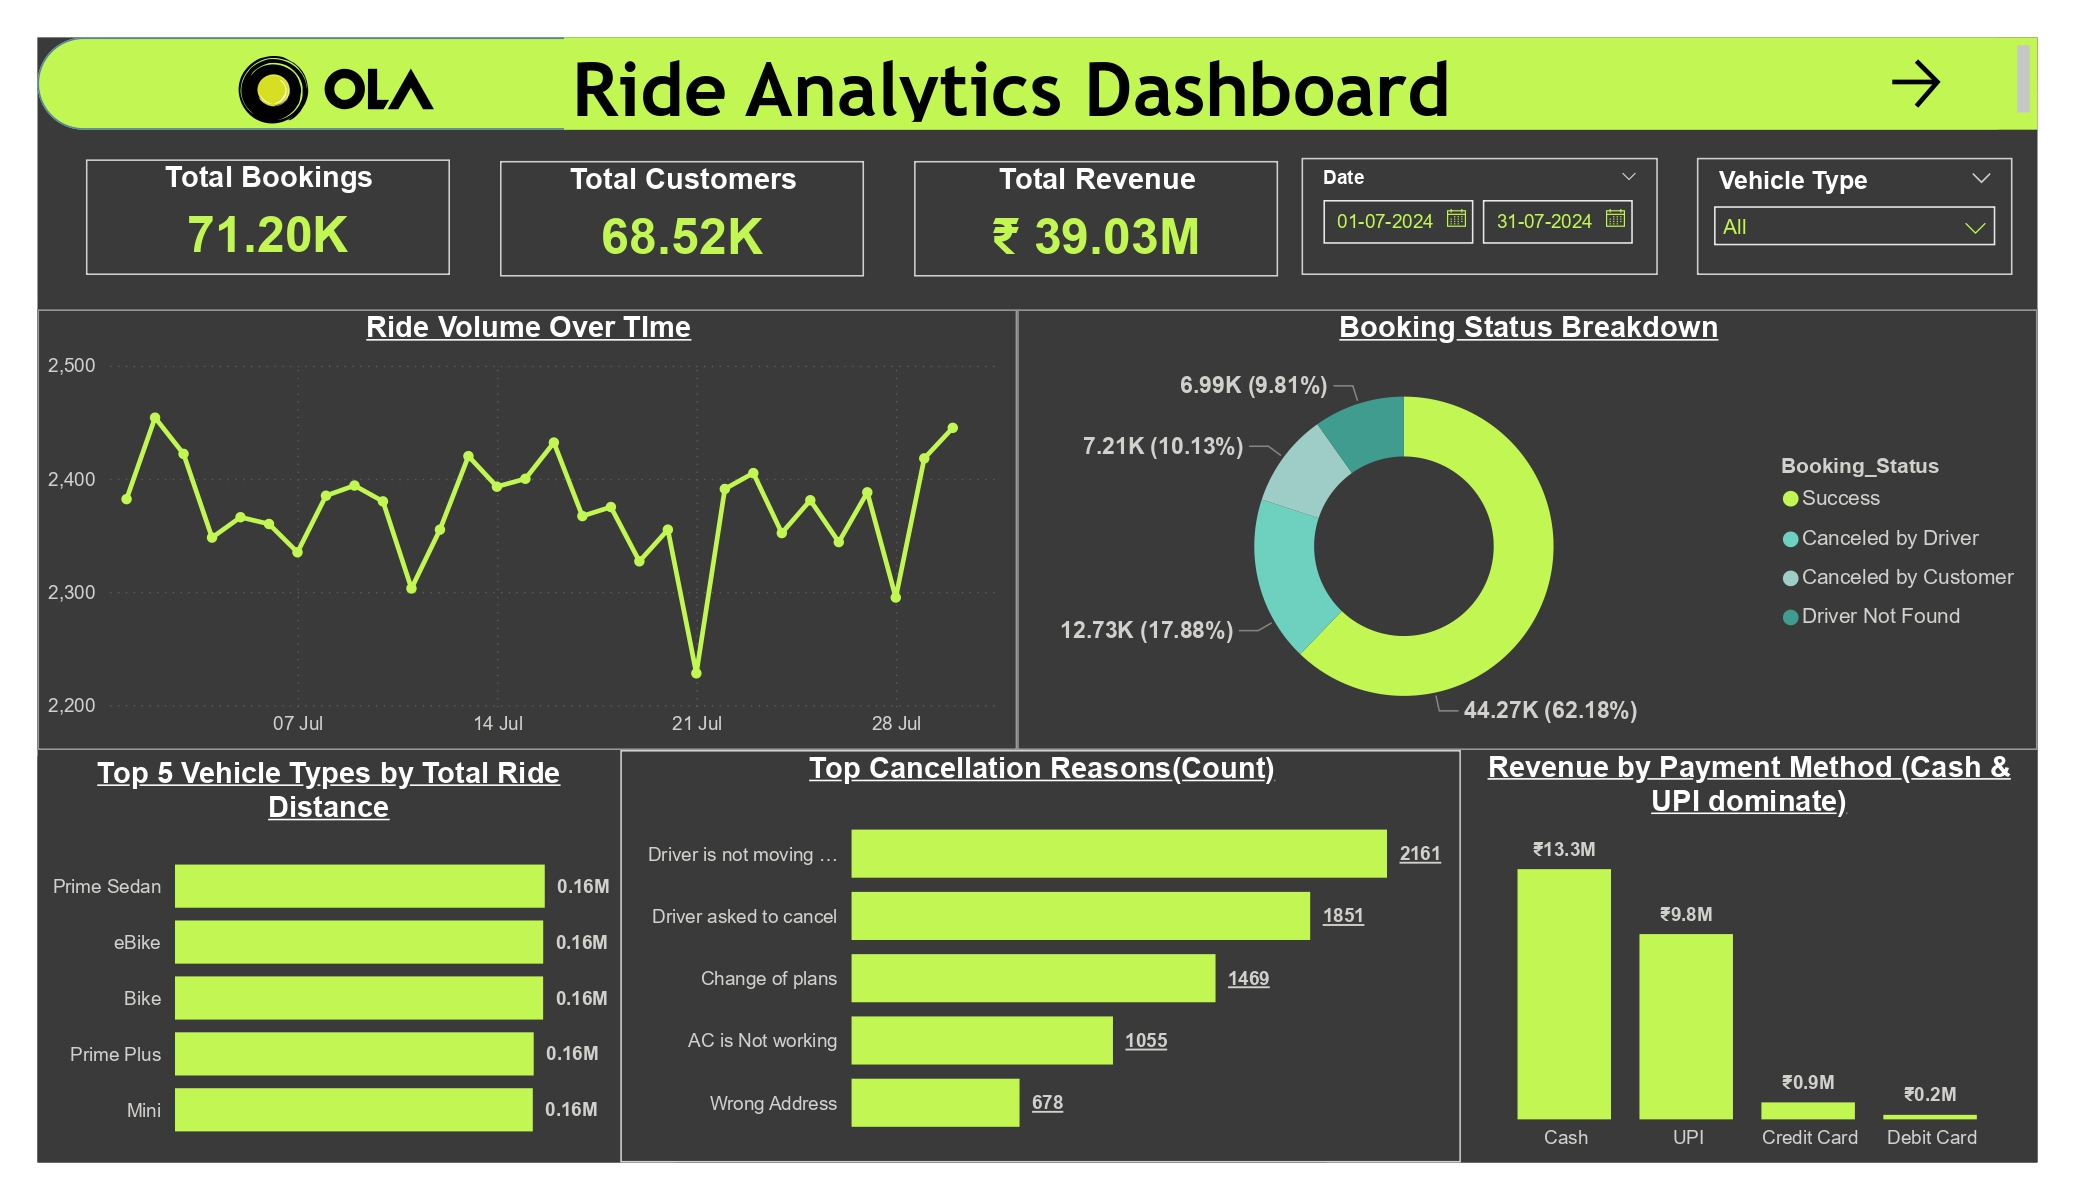

The page's visual inventory and layout, read from the dashboard file:
{"tool":"powerbi","page":{"name":"Operational Analysis","canvas":[1280,720],"ordinal":0},"visuals":[{"type":"shape","box":[0,0,1280.3,59.2],"z":0},{"type":"image","box":[98.3,0,180.4,59.2],"z":1000},{"type":"lineChart","title":"Ride Volume Over TIme","fields":{"Y":["CountNonNull(Bookings.Booking_ID)"],"Category":["Bookings.Date.Variation.Date Hierarchy.Year","Bookings.Date.Variation.Date Hierarchy.Month","Bookings.Date.Variation.Date Hierarchy.Day"]},"box":[0,173.7,627.3,282.7],"z":2000},{"type":"donutChart","title":"Booking Status Breakdown","fields":{"Category":["Bookings.Booking_Status"],"Y":["CountNonNull(Bookings.Booking_Status)"]},"box":[627.3,173.7,652.9,282.7],"z":3000},{"type":"barChart","title":"Top 5 Vehicle Types by Total Ride Distance","fields":{"Category":["Bookings.Vehicle_Type"],"Y":["Sum(Bookings.Ride_Distance)"]},"box":[0,460.4,372.9,259.8],"z":4000},{"type":"textbox","box":[409,460,416,260],"z":6000},{"type":"textbox","box":[336.6,0,943.7,59.2],"z":7000},{"type":"clusteredBarChart","title":" Top Cancellation Reasons(Count)","fields":{"Category":["Bookings.Canceled_Rides_by_Customer","Bookings.Canceled_Rides_by_Driver"],"Y":["CountNonNull(Bookings.Canceled_Rides_by_Customer)"]},"box":[372.9,456.4,538.5,263.9],"z":8000},{"type":"clusteredColumnChart","title":"Revenue by Payment Method (Cash & UPI dominate)","fields":{"Category":["Bookings.Payment_Method"],"Y":["Sum(Bookings.Booking_Value)"]},"box":[911.4,456.4,368.9,263.9],"z":9000},{"type":"card","title":"Total Bookings","fields":{"Values":["CountNonNull(Bookings.Booking_ID)"]},"box":[31,78.1,232.9,74],"z":10000},{"type":"card","title":"Total Customers","fields":{"Values":["Count(Bookings.Customer_ID)"]},"box":[296.2,79.4,232.9,74],"z":11000},{"type":"card","title":"Total Revenue","fields":{"Values":["Sum(Bookings.Booking_Value)"]},"box":[561.4,79.4,232.9,74],"z":12000},{"type":"actionButton","box":[1180.7,9.4,99.6,40.4],"z":13000},{"type":"slicer","fields":{"Values":["Bookings.Vehicle_Type"]},"box":[1062.2,76.7,201.9,75.4],"z":14000},{"type":"slicer","fields":{"Values":["Bookings.Date"]},"box":[809.1,76.7,227.5,75.4],"z":15000}]}

Visuals, with their boxes on the page's 1280x720 design canvas (x1, y1, x2, y2). These are canvas units, not pixel positions in the 2075x1200 screenshot, which may show the page scaled, cropped or inside an application window:
shape: [x1=0, y1=0, x2=1280, y2=59]
image: [x1=98, y1=0, x2=279, y2=59]
"Ride Volume Over TIme" lineChart: [x1=0, y1=174, x2=627, y2=456]
"Booking Status Breakdown" donutChart: [x1=627, y1=174, x2=1280, y2=456]
"Top 5 Vehicle Types by Total Ride Distance" barChart: [x1=0, y1=460, x2=373, y2=720]
textbox: [x1=409, y1=460, x2=825, y2=720]
textbox: [x1=337, y1=0, x2=1280, y2=59]
" Top Cancellation Reasons(Count)" clusteredBarChart: [x1=373, y1=456, x2=911, y2=720]
"Revenue by Payment Method (Cash & UPI dominate)" clusteredColumnChart: [x1=911, y1=456, x2=1280, y2=720]
"Total Bookings" card: [x1=31, y1=78, x2=264, y2=152]
"Total Customers" card: [x1=296, y1=79, x2=529, y2=153]
"Total Revenue" card: [x1=561, y1=79, x2=794, y2=153]
actionButton: [x1=1181, y1=9, x2=1280, y2=50]
slicer - Bookings.Vehicle_Type: [x1=1062, y1=77, x2=1264, y2=152]
slicer - Bookings.Date: [x1=809, y1=77, x2=1037, y2=152]
